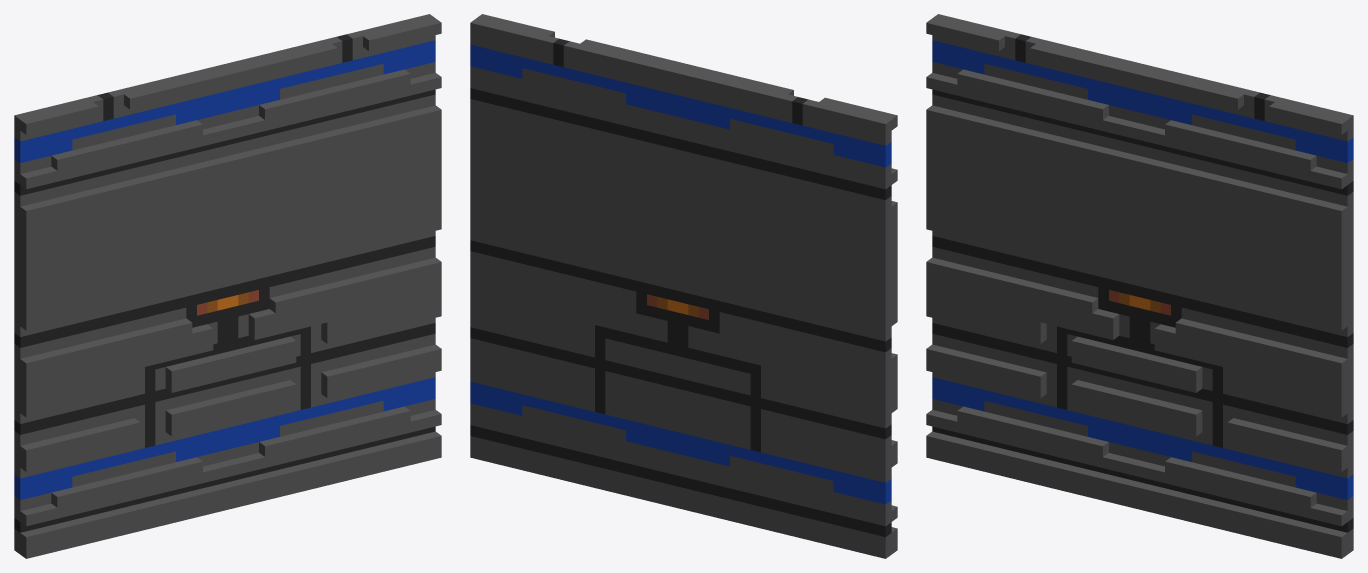
The model's file is Architeture1-4.obj.
The picture shows the model from 3 angles, left to right: view 1: azimuth 30°, elevation 25°; view 2: azimuth 150°, elevation 25°; view 3: azimuth 330°, elevation 25°; orthographic projection.
Size of the model in its own units: 4 by 4 by 0.2.
1 material, 1 textured.
